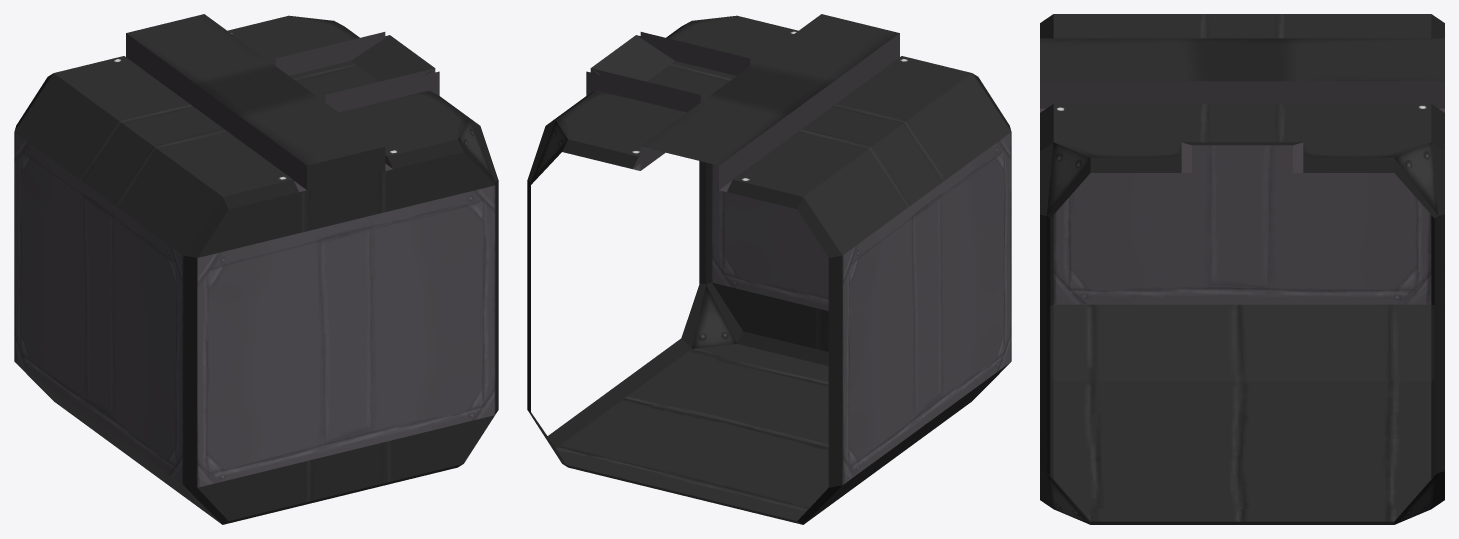
File: pathway03.fbx
3 views of the same model, side by side, from view 1: azimuth 30°, elevation 25°; view 2: azimuth 150°, elevation 25°; view 3: azimuth 270°, elevation 25° (orthographic). The views are drawn at different scales.
Visible parts, largest first — view 1: pathway03; view 2: pathway03; view 3: pathway03.
Boxes of the visible parts, box(x1,y1,x2,y2) form: pathway03: box(14, 14, 498, 524); pathway03: box(527, 14, 1011, 524); pathway03: box(1040, 14, 1444, 524).
Bounding box in the file's own units: 2 × 2.1 × 2.
1 material, 1 textured.
